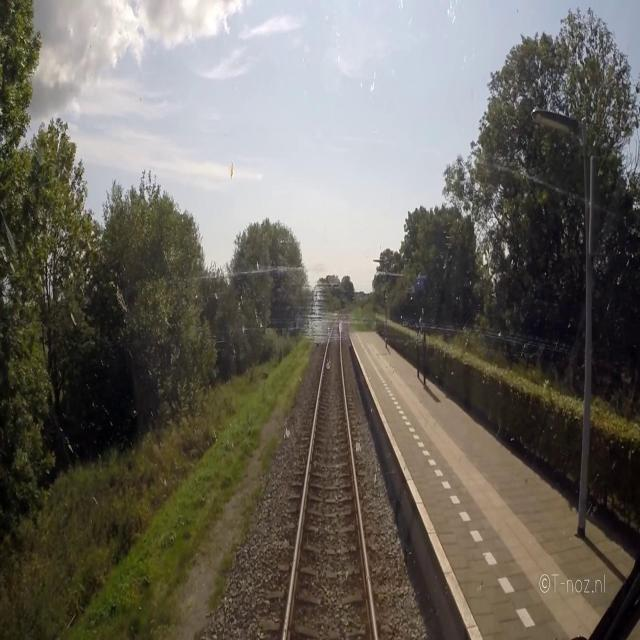rail-track: (286, 315, 374, 639)
